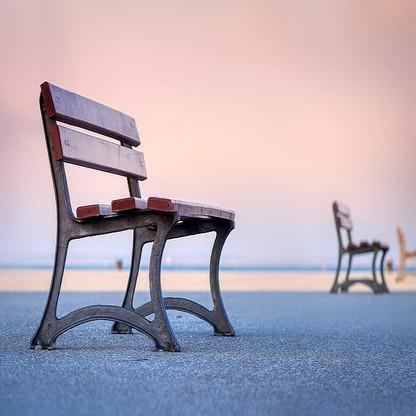obstacle: (22, 95, 243, 371), (316, 200, 388, 302)
